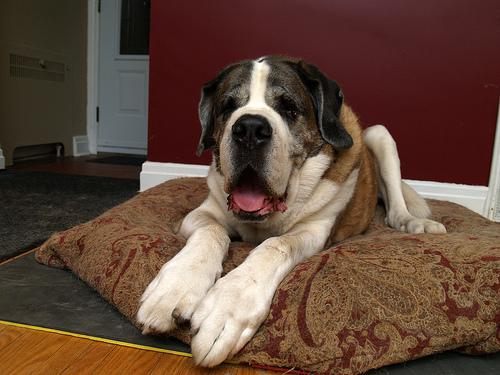dog-saint_bernard: (195, 53, 351, 220)
